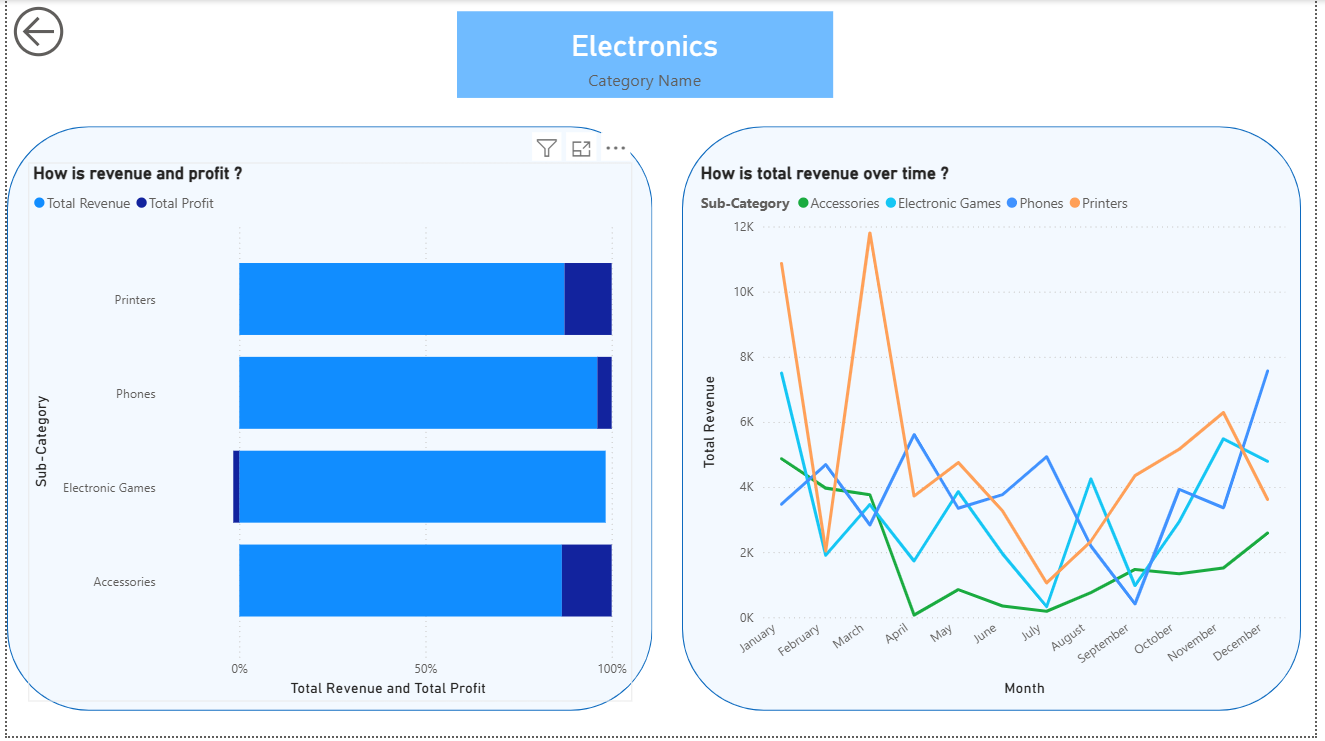

The page's visual inventory and layout, read from the dashboard file:
{"tool":"powerbi","page":{"name":"Item Sub Categories","canvas":[1280,720],"ordinal":1},"visuals":[{"type":"group","id":"g1","title":"Group 1","box":[0,123.2,1266.5,571.8],"z":500},{"type":"lineChart","title":"How is total revenue over time  ?","fields":{"Y":["Sum(Details.Amount)"],"Category":["Orders.Order Date.Variation.Date Hierarchy.Quarter","Orders.Order Date.Variation.Date Hierarchy.Month","Orders.Order Date.Variation.Date Hierarchy.Day"],"Series":["Details.Sub-Category"]},"box":[673.3,159,581.9,526.7],"z":1000},{"type":"hundredPercentStackedBarChart","title":"How is revenue and profit ?","fields":{"Category":["Details.Sub-Category"],"Y":["Sum(Details.Amount)","Sum(Details.Profit)"]},"box":[20.3,159,590.9,526.7],"z":1500},{"type":"actionButton","box":[0,0,67.2,61.7],"z":2000},{"type":"shape","box":[0,123.2,631.5,571.8],"z":2000,"group":"g1"},{"type":"shape","box":[660.9,123.2,605.6,571.8],"z":3000,"group":"g1"},{"type":"card","fields":{"Values":["Min(Details.Category)"]},"box":[439.8,11.3,367.6,84.6],"z":3000}]}

Visuals, with their boxes in screenshot pixels (x1, y1, x2, y2), scaled from the page's 1280x720 canvas onto the 1325x741 screenshot:
"Group 1" group: bbox(0, 127, 1311, 715)
"How is total revenue over time  ?" lineChart: bbox(697, 164, 1299, 706)
"How is revenue and profit ?" hundredPercentStackedBarChart: bbox(21, 164, 633, 706)
actionButton: bbox(0, 0, 70, 63)
shape: bbox(0, 127, 654, 715)
shape: bbox(684, 127, 1311, 715)
card - Min(Details.Category): bbox(455, 12, 836, 99)
